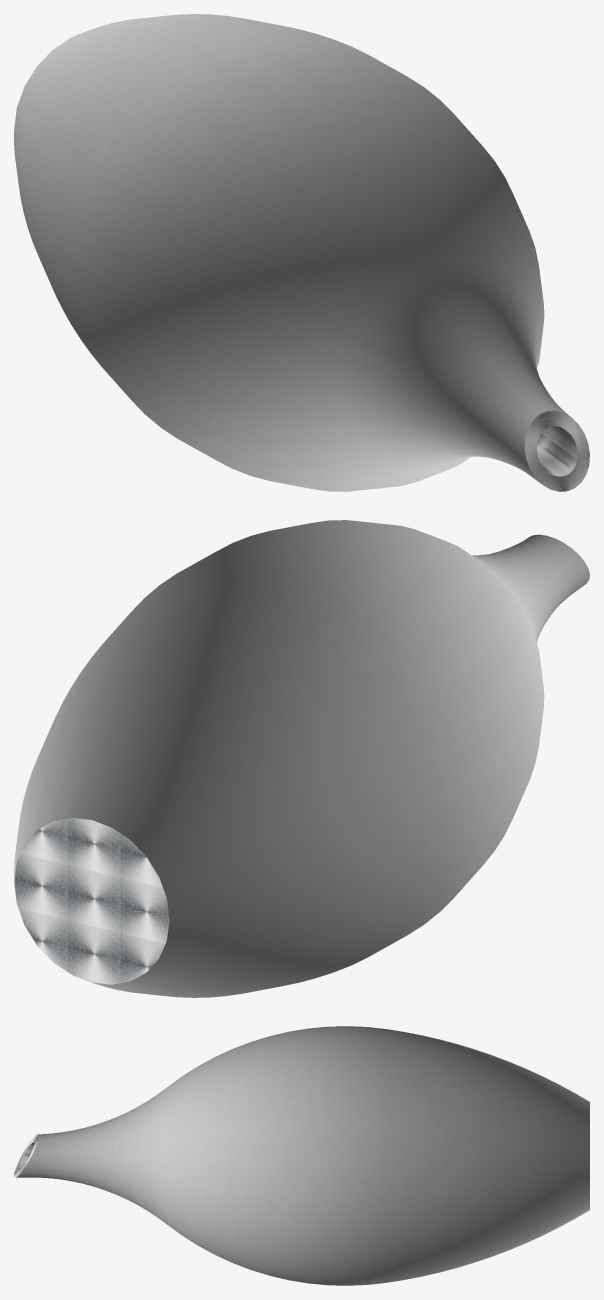
The model's file is model_scale.obj.
3 views of the same model, one above another, from view 1: azimuth 30°, elevation 25°; view 2: azimuth 150°, elevation 25°; view 3: azimuth 270°, elevation 25° (orthographic). The views are drawn at different scales.
Parts seen in each view (by area): view 1: mesh1_mesh1-geometry; view 2: mesh1_mesh1-geometry; view 3: mesh1_mesh1-geometry.
Part boxes in pixels (x1,y1,x2,y2): mesh1_mesh1-geometry: [14, 14, 589, 491]; mesh1_mesh1-geometry: [14, 520, 589, 997]; mesh1_mesh1-geometry: [14, 1026, 589, 1285].
Bounding box in the file's own units: 0.0656 × 0.0656 × 0.145.
